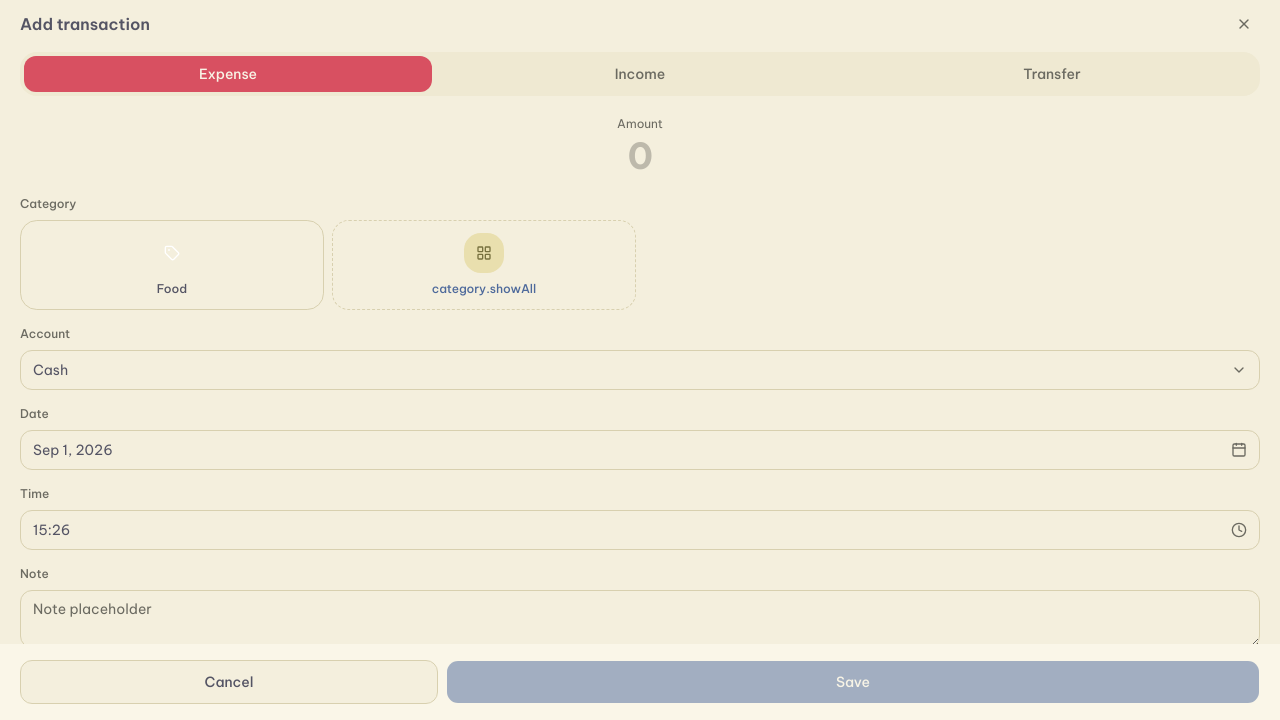
Scenario: TransactionForm › filters hidden categories as well as categories of another type
Expected: the button "Food" is shown, [20,220,324,310]
Expected: the button "Salary" is not shown
Click the button "Income" at (640, 74), box [436,56,844,92]
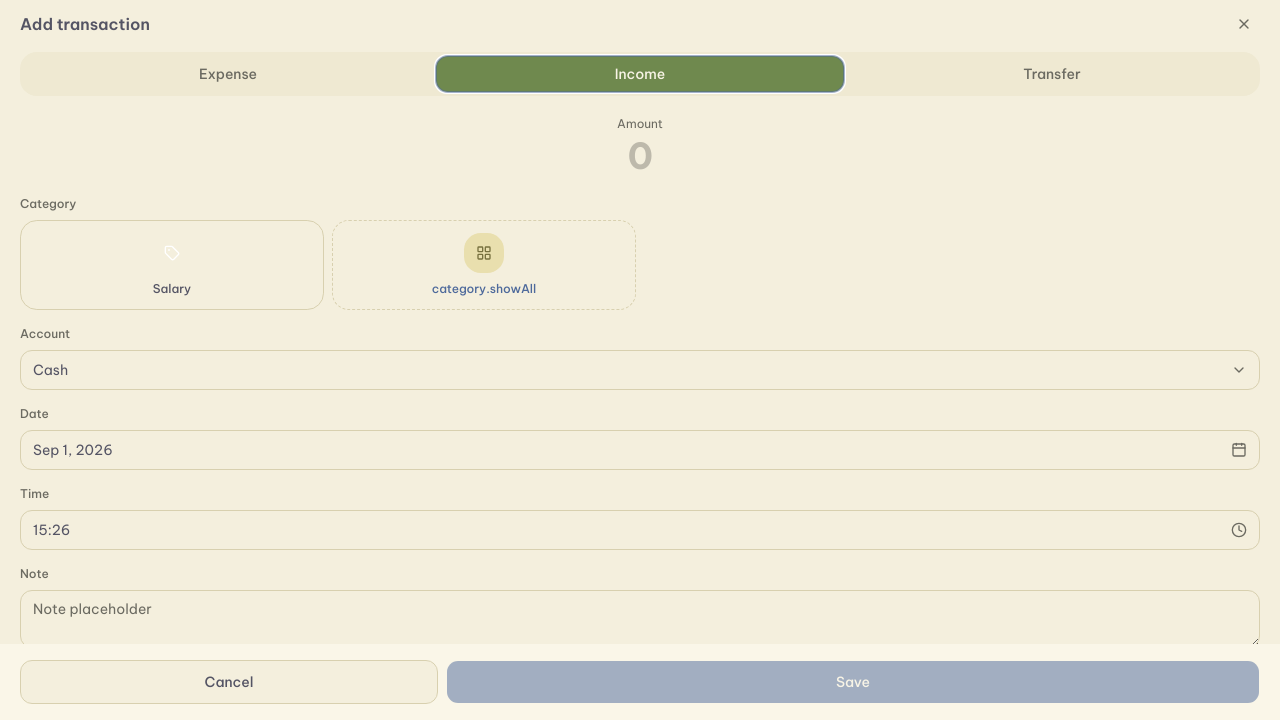
Now the button "Salary" is shown, box [20,220,324,310]
Now the button "Food" is gone
